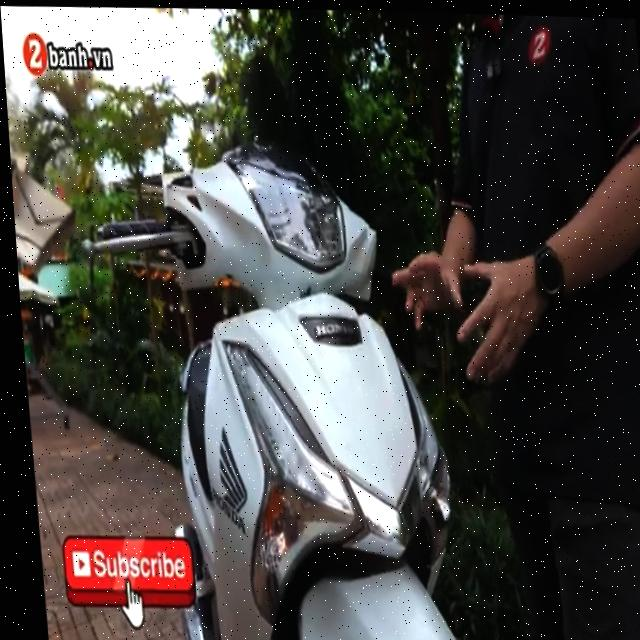motorcycle: (66, 119, 480, 640)
